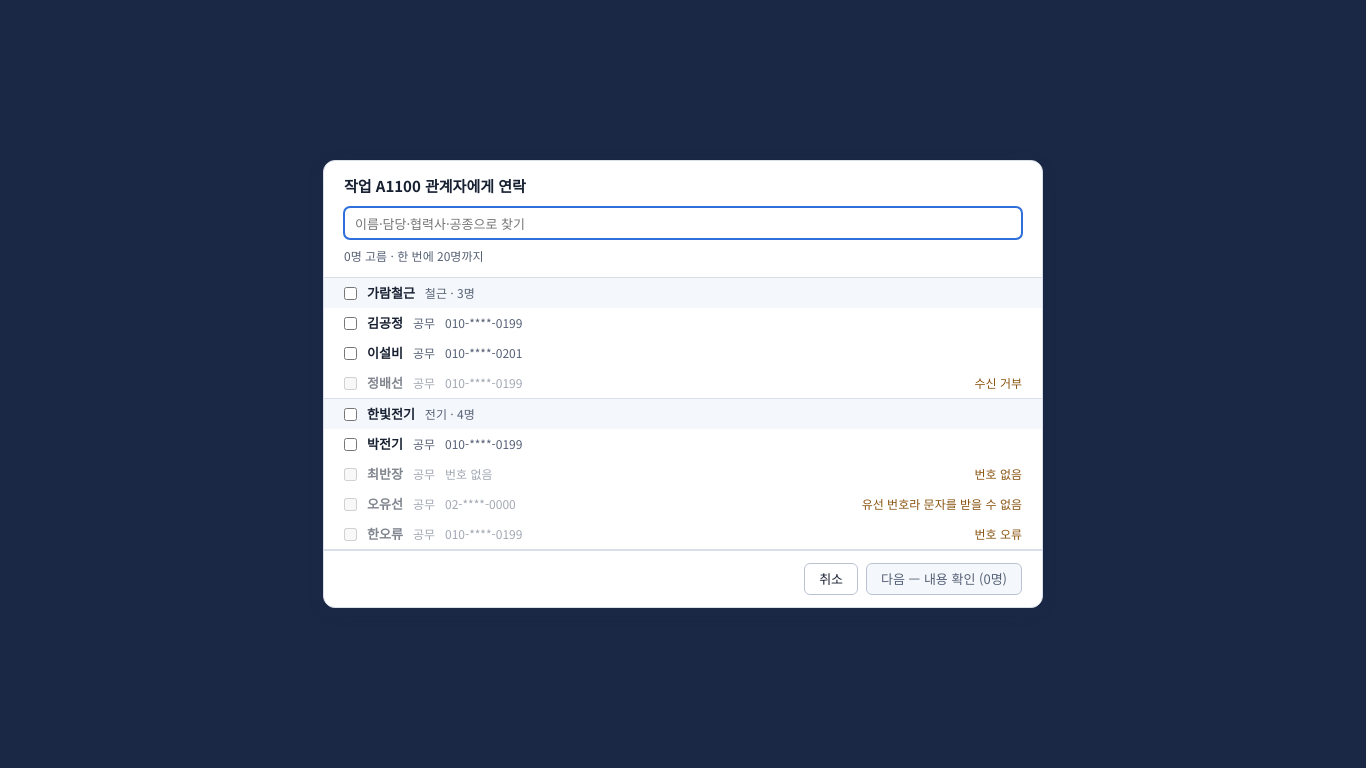
Scenario: 받는 사람 고르기 › 협력사별로 묶이고, 이름·협력사·공종으로 찾는다
The image size is (1366, 768).
Type "전기" into the search field named "사람 찾기". click: (683, 223)
box: [344,207,1022,239]
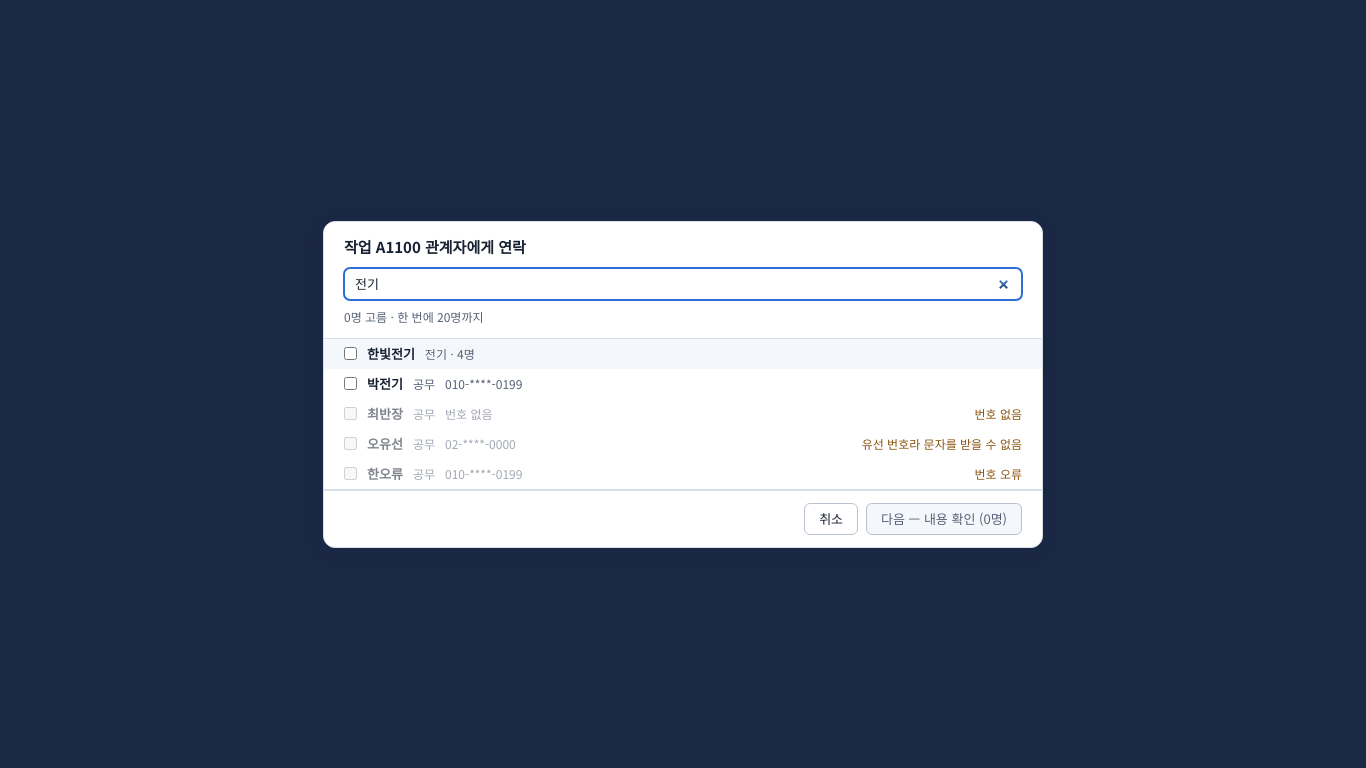
Expected: the element "한빛전기" is shown, [324,338,1042,490]
Expected: the text "가람철근" is gone
Clear the search field named "사람 찾기". click: (683, 284)
box: [344,268,1022,300]
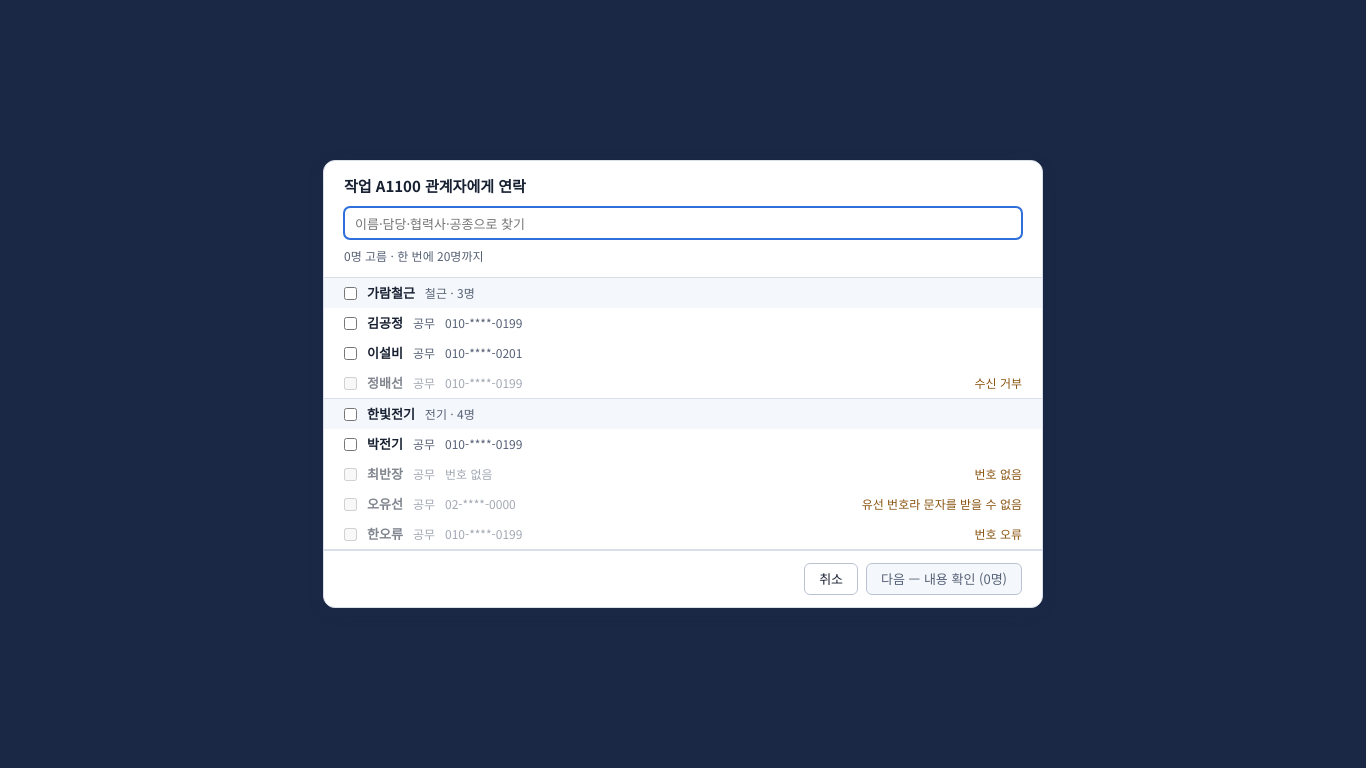
Type "이설" into the search field named "사람 찾기". click: (683, 223)
box: [344,207,1022,239]
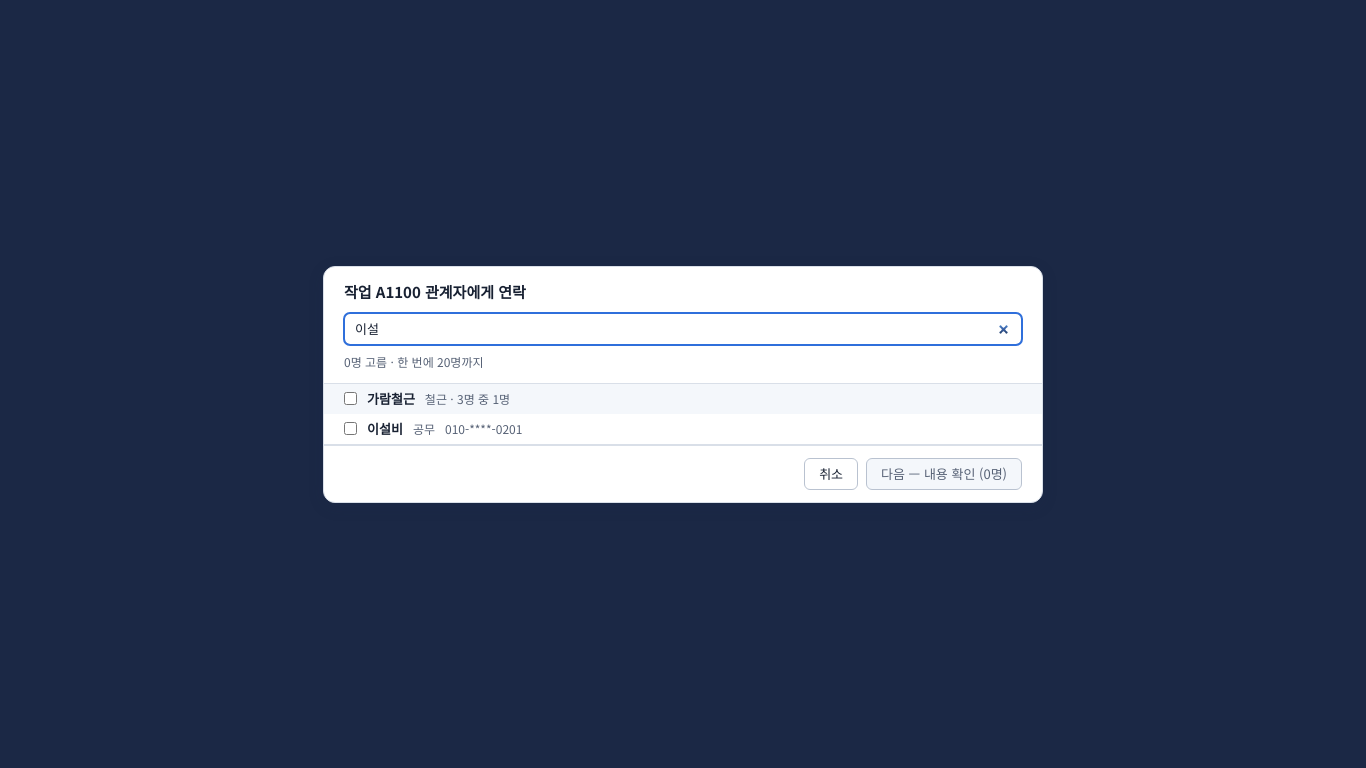
Clear the search field named "사람 찾기". click: (683, 328)
box: [344,312,1022,344]
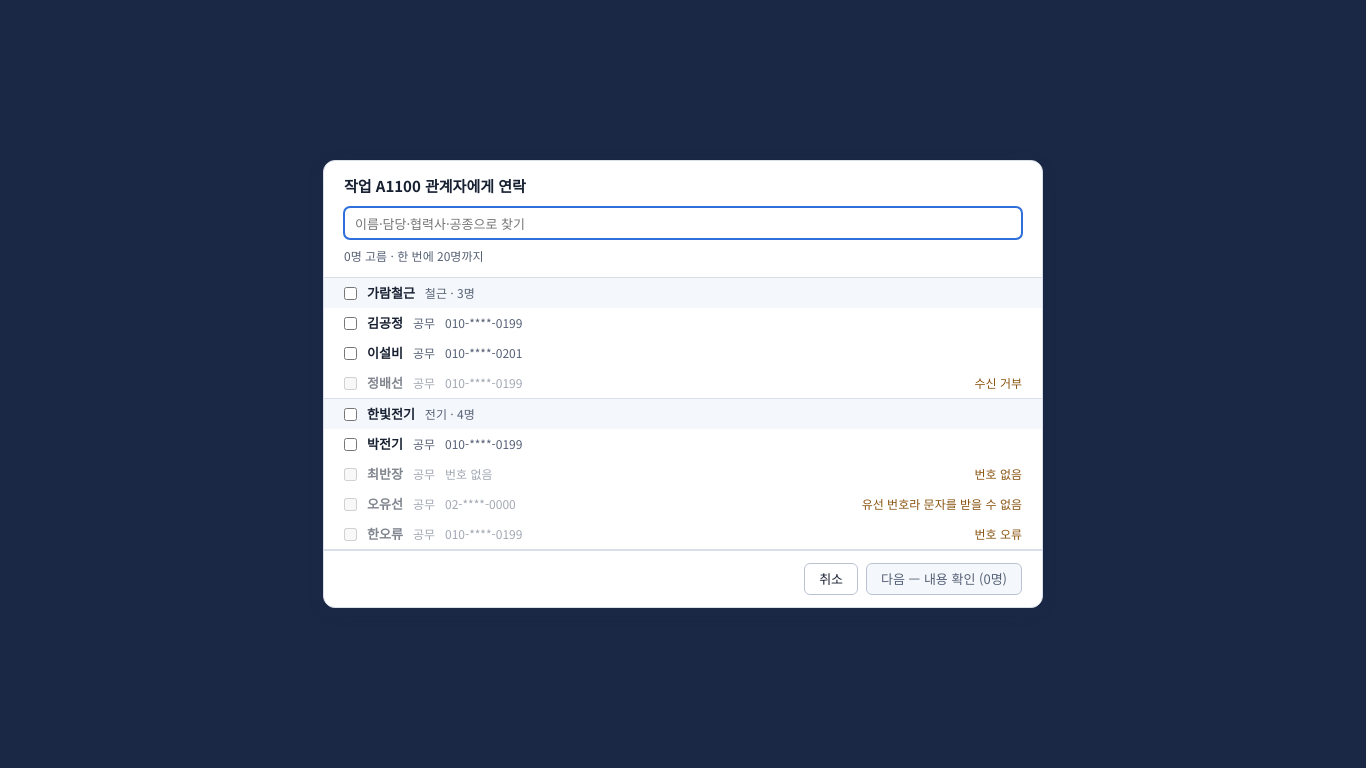
Type "없는 사람" into the search field named "사람 찾기". click: (683, 223)
box: [344,207,1022,239]
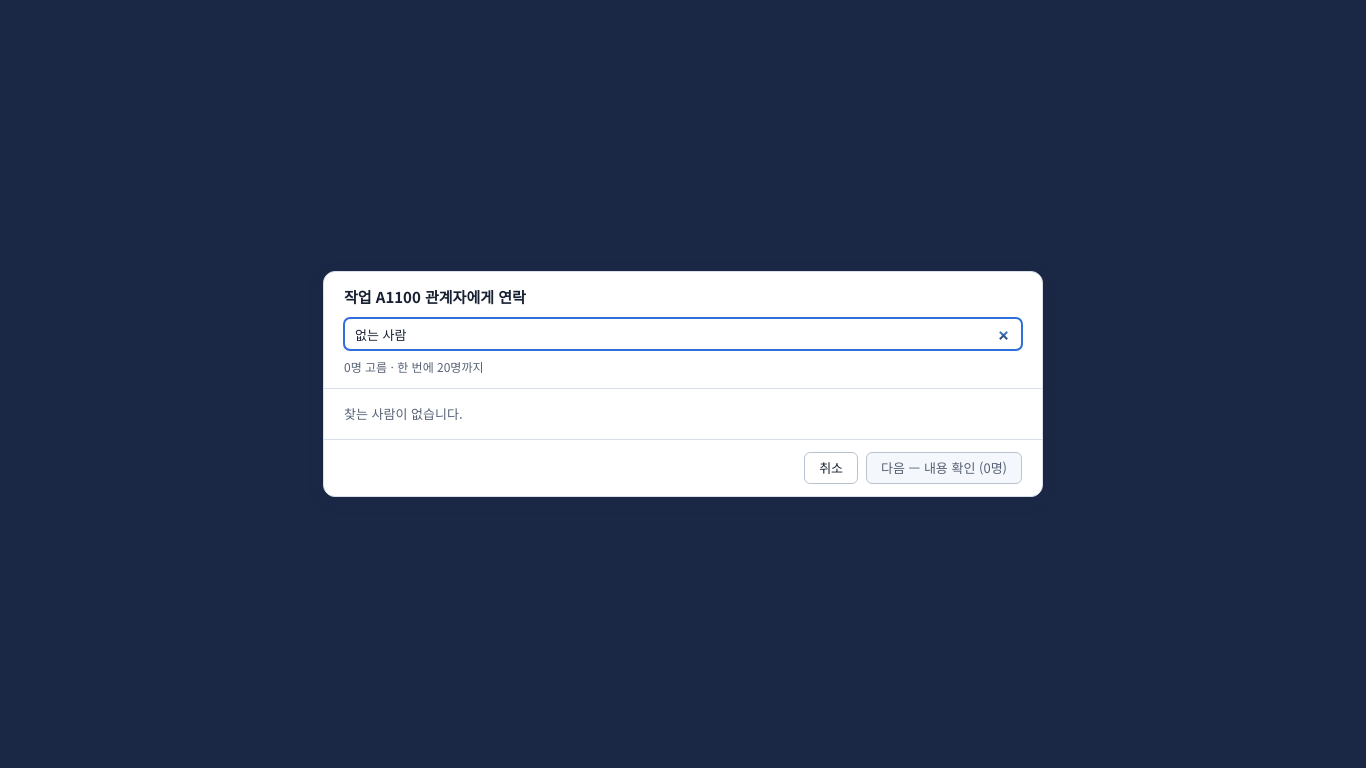
Expected: the text "찾는 사람이 없습니다." is shown, [344,404,463,423]
